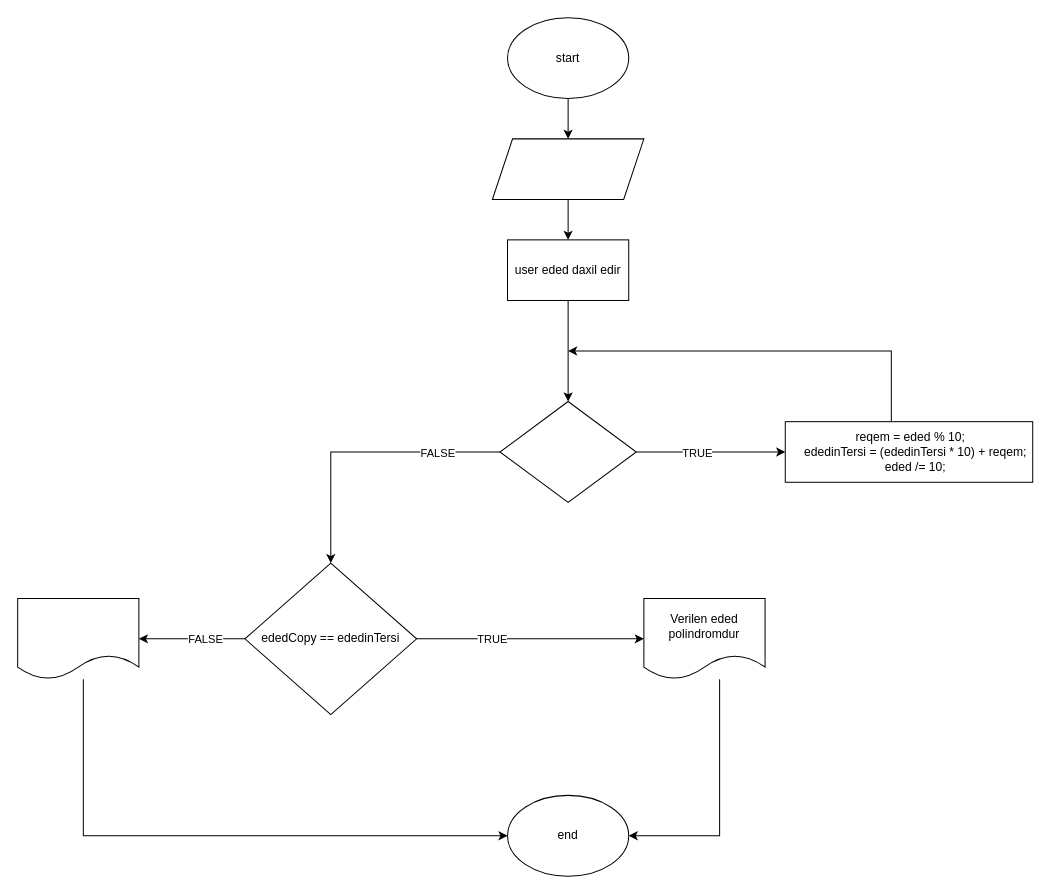
Image size: 1050x894. Some labels were removed from this diagram. The box of each missing label's shape, as (x1, y1, x2, y2) in pixels:
eded > 0: (499, 400, 636, 502)
int eded; int ededCopy = eded; int ededinTersi; int reqem;: (491, 138, 644, 199)
Verilen eded polindrom deyil: (17, 597, 139, 679)
